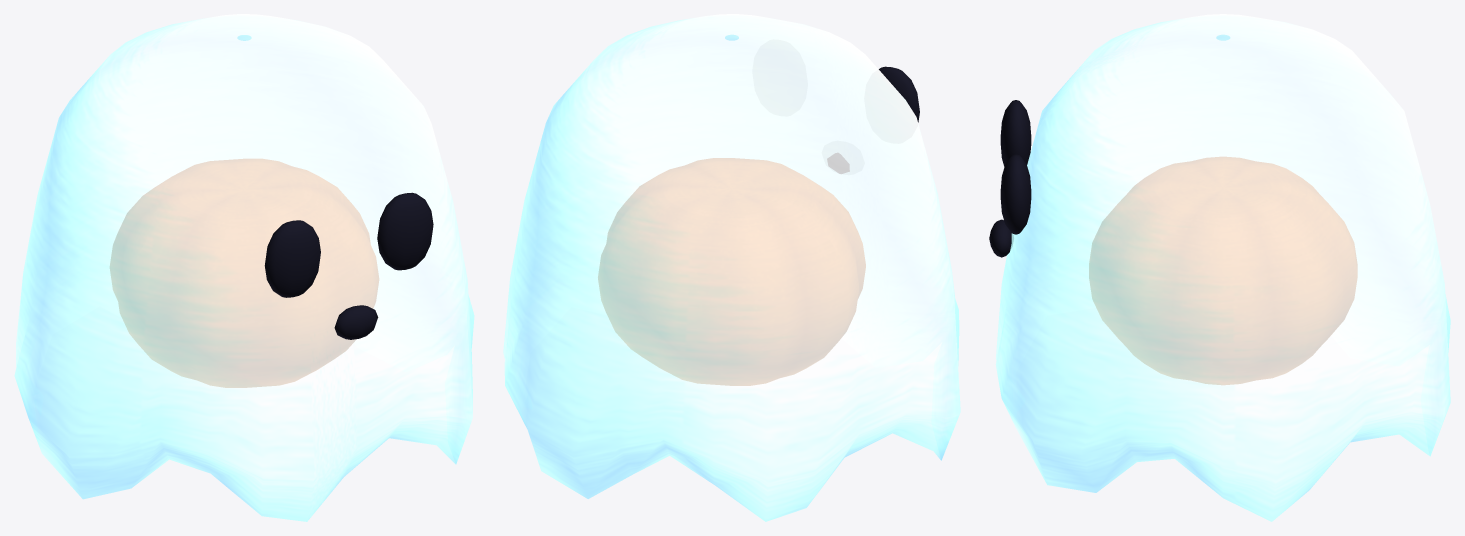
The model's file is bbe1e8c7-f70f-46e5-aa79-da6c1a20f207.glb.
3 renders of one model, left to right at view 1: azimuth 30°, elevation 25°; view 2: azimuth 150°, elevation 25°; view 3: azimuth 270°, elevation 25°, orthographic.
Parts seen in each view (by area): view 1: Body; view 2: Body; view 3: Body.
Part boxes in pixels (box(x1,y1,x2,y2)): Body: box(14, 14, 474, 521); Body: box(503, 14, 960, 521); Body: box(989, 14, 1450, 521).
Bounding box in the file's own units: 0.6917 × 0.6087 × 0.6458.
3 materials, 2 textured.
